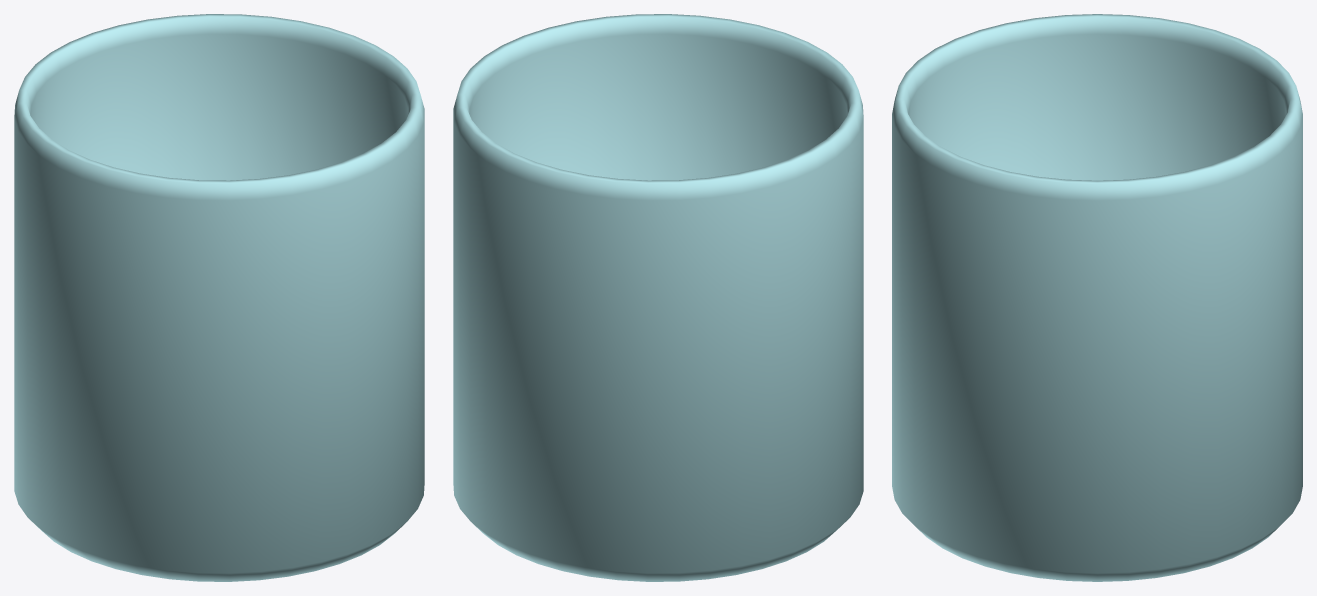
The model's file is candy_jar.glb.
3 views of the same model, side by side, from view 1: azimuth 30°, elevation 25°; view 2: azimuth 150°, elevation 25°; view 3: azimuth 270°, elevation 25° (orthographic).
Parts seen in each view (by area): view 1: Hollow_open_glass; view 2: Hollow_open_glass; view 3: Hollow_open_glass.
Part boxes in pixels (x1,y1,x2,y2): Hollow_open_glass: [14, 14, 424, 581]; Hollow_open_glass: [453, 14, 863, 581]; Hollow_open_glass: [892, 14, 1302, 581].
Size of the model in its own units: 0.2 by 0.2173 by 0.2.
